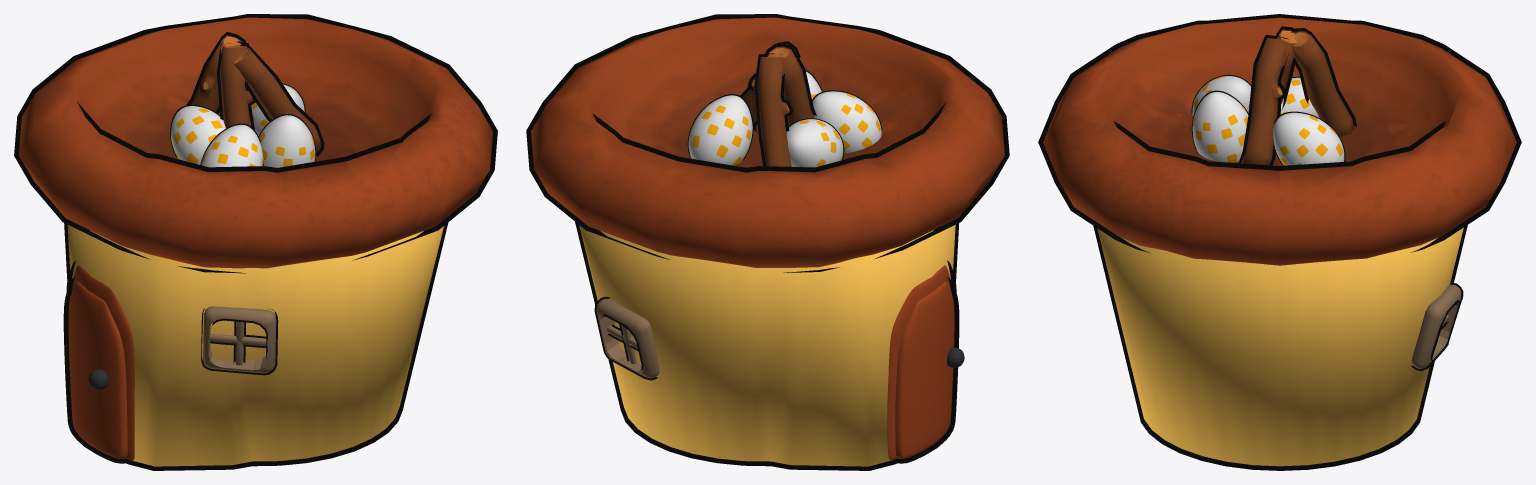
Rendered from Hatchery.glb.
The picture shows the model from 3 angles, left to right: view 1: azimuth 30°, elevation 25°; view 2: azimuth 150°, elevation 25°; view 3: azimuth 270°, elevation 25°; orthographic projection.
Parts seen in each view (by area): view 1: nest, base, Shadow, door, window1, Sphere, Sphere.001, log3, Sphere.002, log2, log1, Sphere.003; view 2: nest, base, Shadow, door, Sphere.003, window2, Sphere.002, log1, Sphere.001, log2; view 3: nest, base, Shadow, Sphere, log3, Sphere.003, log1, window2, Sphere.002, Sphere.001, log2.
Part boxes in pixels (x1,y1,x2,y2): nest: [19, 17, 492, 268]; base: [67, 225, 443, 466]; Shadow: [14, 14, 497, 470]; door: [68, 265, 134, 460]; window1: [203, 306, 276, 373]; Sphere: [258, 114, 316, 167]; Sphere.001: [170, 105, 225, 164]; log3: [233, 47, 321, 153]; Sphere.002: [200, 123, 264, 167]; log2: [220, 44, 252, 128]; log1: [190, 35, 242, 111]; Sphere.003: [251, 83, 305, 135]; nest: [531, 17, 1004, 267]; base: [579, 225, 955, 466]; Shadow: [526, 14, 1009, 470]; door: [887, 265, 954, 460]; Sphere.003: [687, 94, 753, 165]; window2: [596, 298, 659, 378]; Sphere.002: [812, 90, 882, 153]; log1: [757, 56, 791, 166]; Sphere.001: [786, 118, 844, 167]; log2: [767, 46, 813, 125]; nest: [1043, 17, 1516, 265]; base: [1097, 227, 1463, 466]; Shadow: [1038, 14, 1521, 470]; Sphere: [1191, 90, 1248, 162]; log3: [1241, 38, 1286, 165]; Sphere.003: [1273, 111, 1345, 165]; log1: [1291, 31, 1354, 136]; window2: [1411, 284, 1461, 368]; Sphere.002: [1191, 75, 1251, 116]; Sphere.001: [1280, 76, 1319, 117]; log2: [1277, 29, 1297, 104].
Bounding box in the file's own units: 9.97 × 8.45 × 9.97.
Materials: 15 (3 with a texture image).
